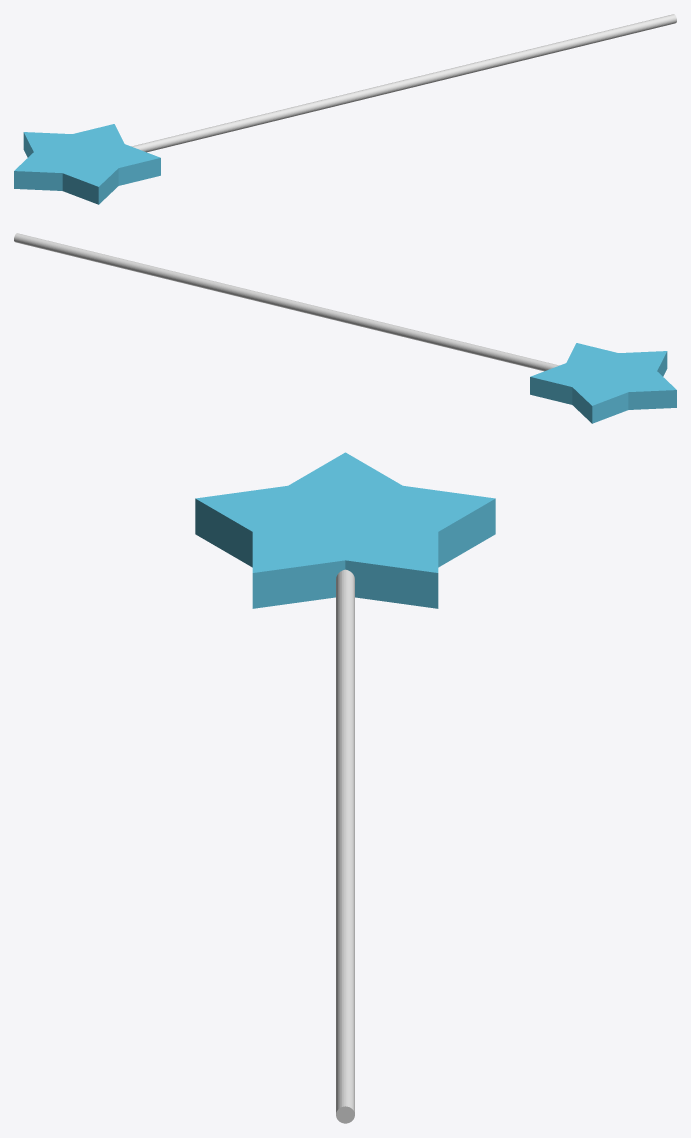
The model's file is rare_wizard_wand.obj.
3 renders of one model, top to bottom at view 1: azimuth 30°, elevation 25°; view 2: azimuth 150°, elevation 25°; view 3: azimuth 270°, elevation 25°, orthographic. The views are drawn at different scales.
Parts seen in each view (by area): view 1: 五角星_柱体.001, 杆_柱体.008; view 2: 五角星_柱体.001, 杆_柱体.008; view 3: 五角星_柱体.001, 杆_柱体.008.
Part boxes in pixels (x1,y1,x2,y2): 五角星_柱体.001: (14,124,160,204); 杆_柱体.008: (131,14,676,152); 五角星_柱体.001: (530,343,676,423); 杆_柱体.008: (14,233,559,371); 五角星_柱体.001: (195,452,495,608); 杆_柱体.008: (336,569,354,1123).
Bounding box in the file's own units: 1.93 × 0.05 × 0.3804.
